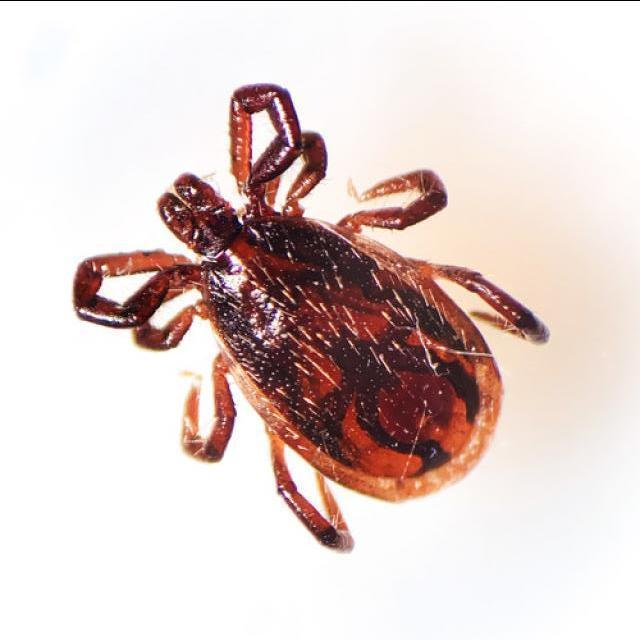Ixodes Ricinus-M: (73, 82, 552, 553)
